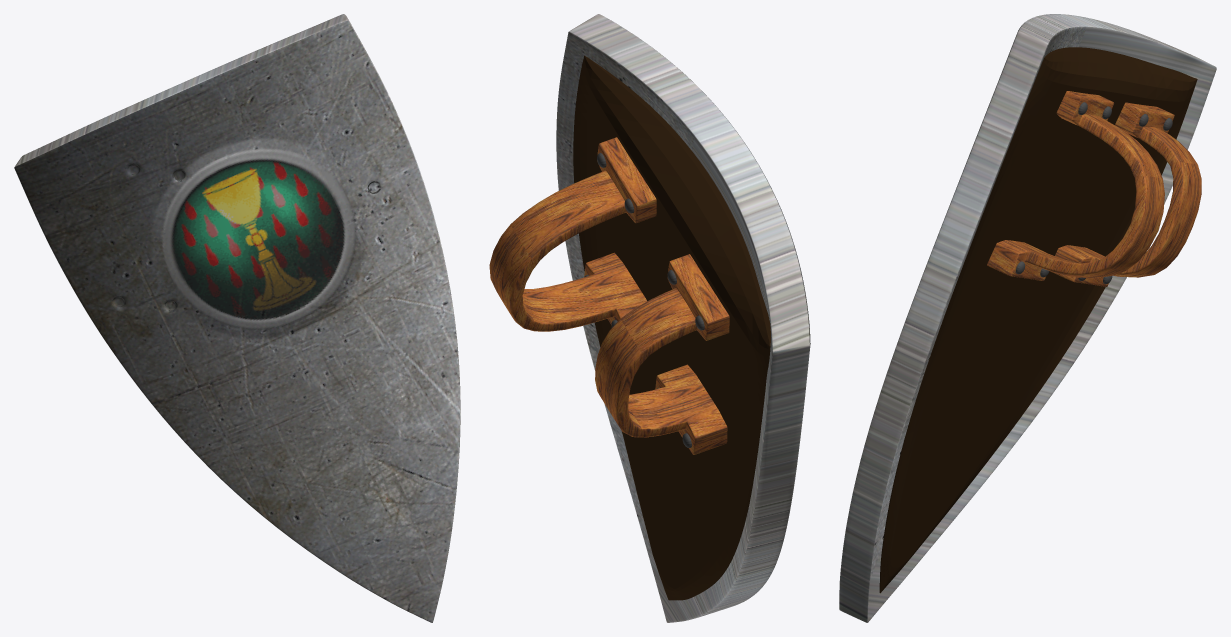
File: Crusader Shield Damara.glb
3 renders of one model, left to right at view 1: azimuth 30°, elevation 25°; view 2: azimuth 150°, elevation 25°; view 3: azimuth 270°, elevation 25°, orthographic. The views are drawn at different scales.
Parts seen in each view (by area): view 1: Crusader Shield Damara; view 2: Crusader Shield Damara; view 3: Crusader Shield Damara.
Boxes of the visible parts, <box> form: Crusader Shield Damara: <box>14,14,460,622</box>; Crusader Shield Damara: <box>489,14,810,622</box>; Crusader Shield Damara: <box>839,14,1216,622</box>.
Bounding box in the file's own units: 10.28 × 17.16 × 10.06.
4 materials, 2 textured.
